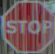Stop: (2, 3, 52, 53)
